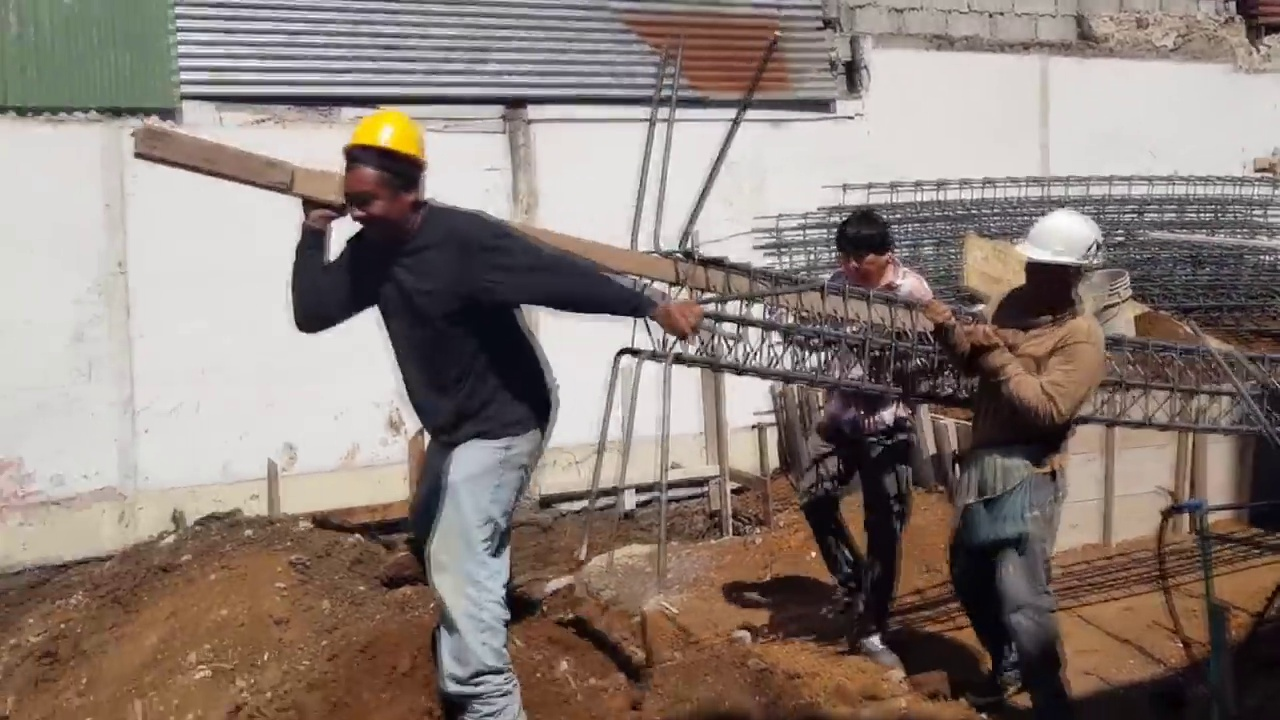helmet: (336, 101, 430, 165), (1025, 205, 1115, 271)
helmet-off: (835, 212, 907, 289)
helmet-on: (332, 110, 433, 244), (1009, 200, 1110, 310)
person: (315, 81, 692, 714), (938, 196, 1114, 695), (796, 199, 934, 669)
